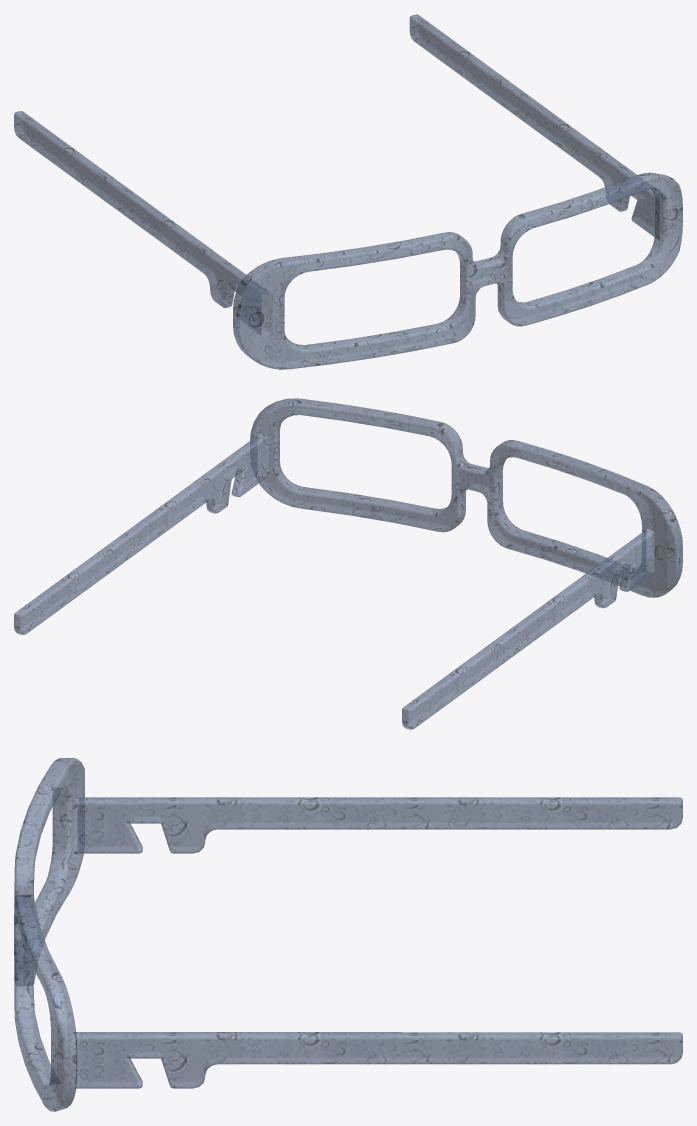
The model's file is project-06.glb.
3 renders of one model, top to bottom at view 1: azimuth 30°, elevation 25°; view 2: azimuth 150°, elevation 25°; view 3: azimuth 270°, elevation 25°, orthographic. The views are drawn at different scales.
Parts seen in each view (by area): view 1: Solid2; view 2: Solid2; view 3: Solid2.
Boxes of the visible parts, x1,y1,x2,y2 form: Solid2: [14, 14, 682, 369]; Solid2: [14, 398, 682, 729]; Solid2: [14, 758, 682, 1111].
Size of the model in its own units: 0.0642 by 0.0148 by 0.0689.
Materials: 1 (1 with a texture image).
